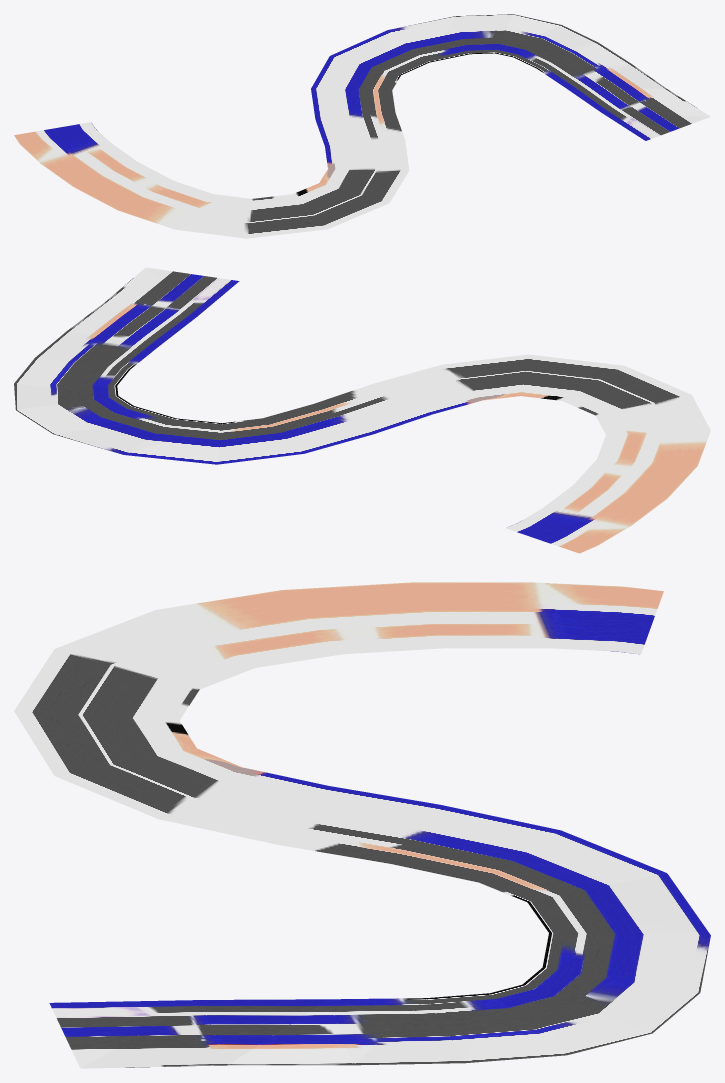
File: track version 2.FBX
3 renders of one model, top to bottom at view 1: azimuth 30°, elevation 25°; view 2: azimuth 150°, elevation 25°; view 3: azimuth 270°, elevation 25°, orthographic. The views are drawn at different scales.
Parts seen in each view (by area): view 1: Object002; view 2: Object002; view 3: Object002.
Boxes of the visible parts, x1,y1,x2,y2 form: Object002: (14,14,710,238); Object002: (14,267,710,553); Object002: (14,582,710,1068).
Bounding box in the file's own units: 869 × 4.88 × 520.
